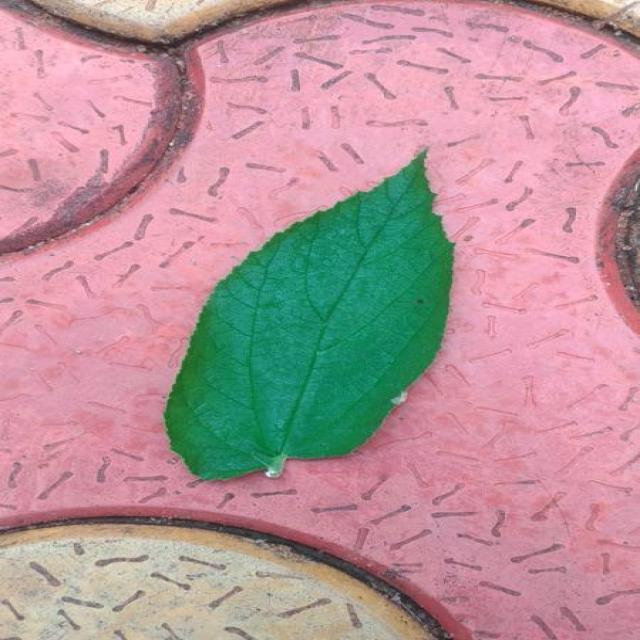gasagase: (163, 151, 453, 479)
